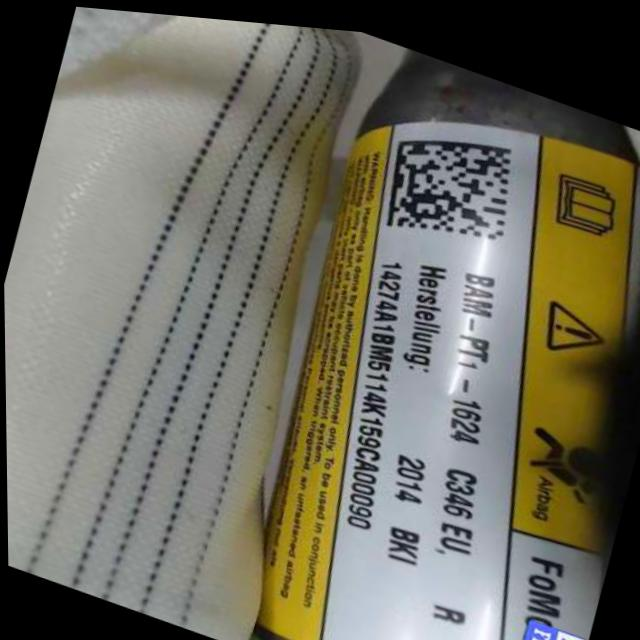datamatrix: (375, 102, 525, 258)
